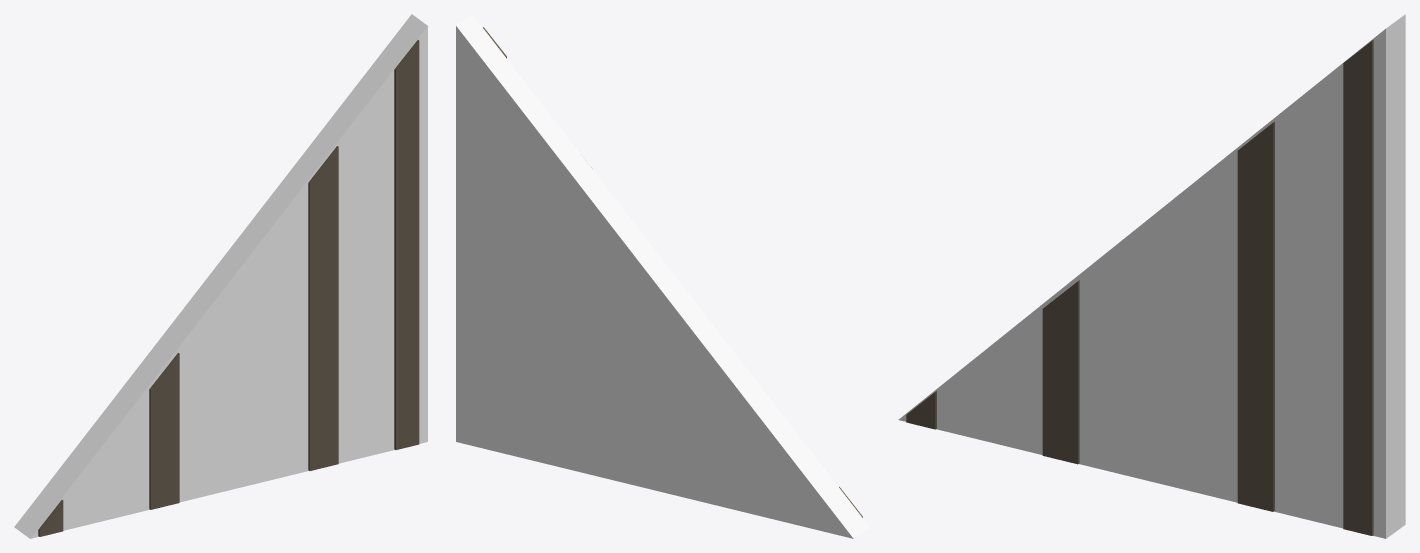
The model's file is _ROOF_trinagle_left_wood_1.glb.
3 renders of one model, left to right at view 1: azimuth 30°, elevation 25°; view 2: azimuth 150°, elevation 25°; view 3: azimuth 330°, elevation 25°, orthographic. The views are drawn at different scales.
Visible parts, largest first — view 1: ROOF_trinagle_left_wood_1; view 2: ROOF_trinagle_left_wood_1; view 3: ROOF_trinagle_left_wood_1.
Part boxes in pixels (<box>): ROOF_trinagle_left_wood_1: <box>14,14,427,538</box>; ROOF_trinagle_left_wood_1: <box>456,14,869,538</box>; ROOF_trinagle_left_wood_1: <box>898,14,1405,538</box>.
Size of the model in its own units: 1 by 1 by 0.0761.
Materials: 1 (1 with a texture image).
